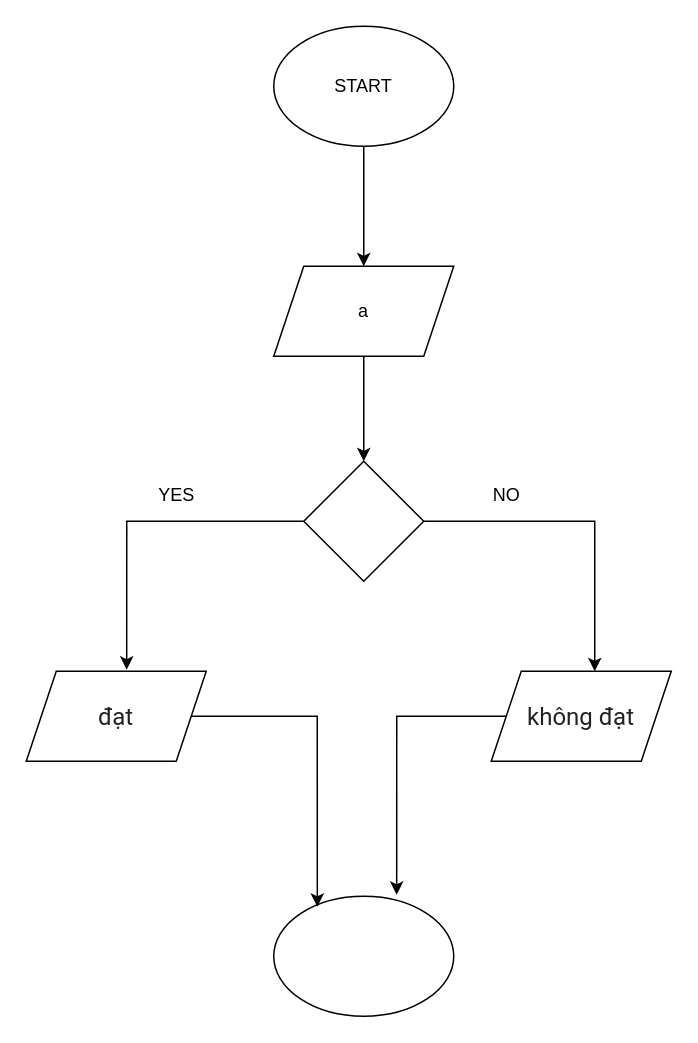
Some shapes in this 698 by 1043 pixel diagram are drawn without their labels. The shapes that lost their labels are listed below. From the top down, each one's centre as x and y in pixels, then its label:
At point (363, 520): "a>5?".
At point (363, 955): "END".
